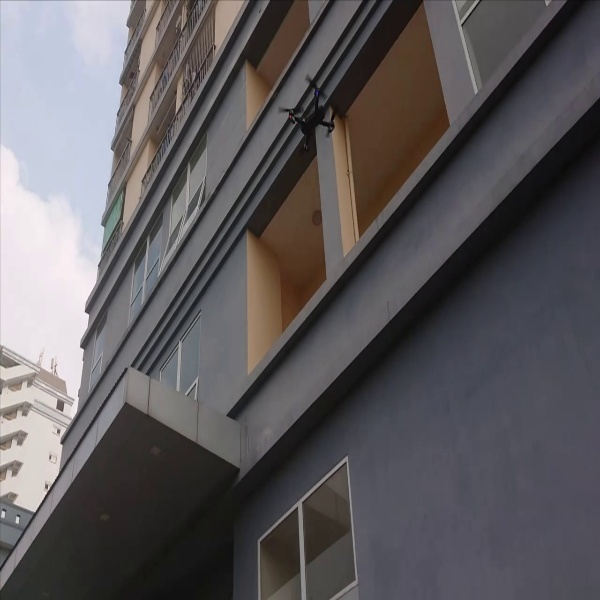drone: (276, 76, 347, 152)
